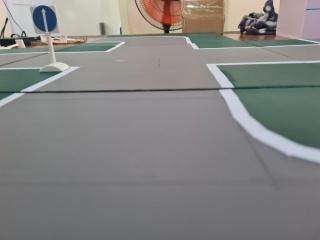straight: (28, 3, 60, 36)
